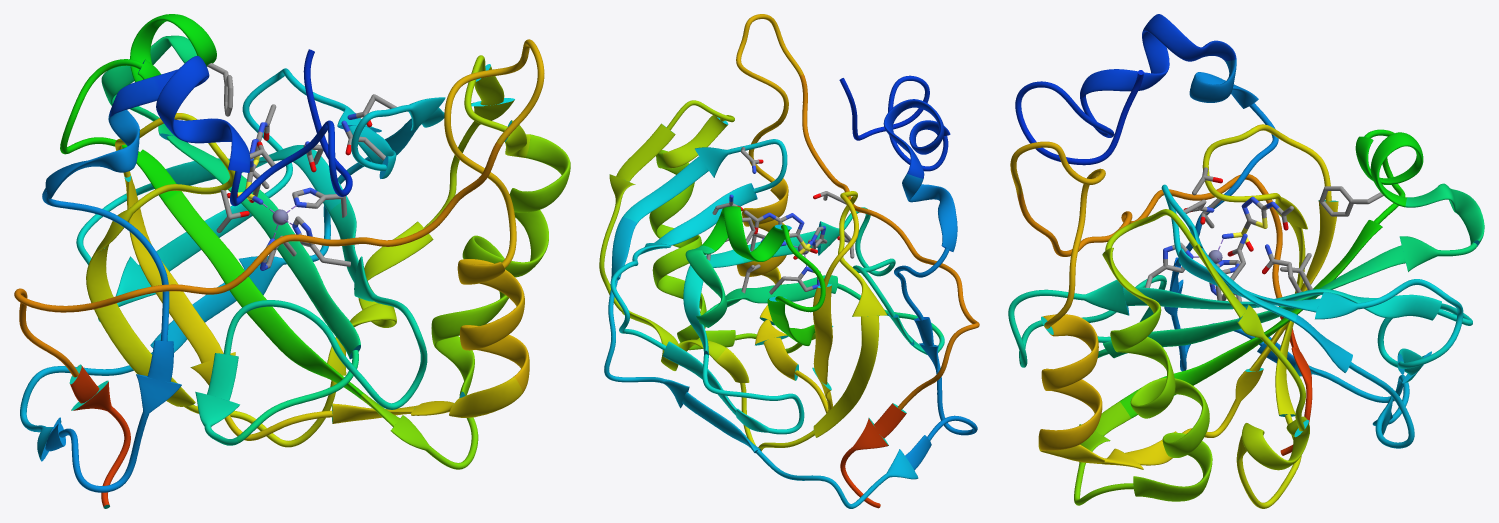
Rendered from proteinDraco.gltf.
3 renders of one model, left to right at view 1: azimuth 30°, elevation 25°; view 2: azimuth 150°, elevation 25°; view 3: azimuth 270°, elevation 25°, orthographic. The views are drawn at different scales.
Visible parts, largest first — view 1: matsym_7, matsym_8, matsym_11, matsym_0, matsym_6, matsym_1, matsym_12, matsym_5, matsym_10, matsym_4, matsym_9, matsym_13 (+4 smaller); view 2: matsym_3, matsym_9, matsym_10, matsym_2, matsym_1, matsym_4, matsym_11, matsym_7, matsym_8, matsym_0, matsym_6, matsym_12 (+4 smaller); view 3: matsym_8, matsym_0, matsym_12, matsym_6, matsym_7, matsym_9, matsym_11, matsym_3, matsym_5, matsym_10, matsym_1, matsym_4 (+4 smaller).
Boxes of the visible parts, x1=… form: matsym_7: x1=60, y1=14, x2=364, y2=399; matsym_8: x1=361, y1=134, x2=570, y2=469; matsym_11: x1=115, y1=113, x2=522, y2=440; matsym_0: x1=109, y1=49, x2=352, y2=206; matsym_6: x1=101, y1=35, x2=360, y2=442; matsym_1: x1=42, y1=109, x2=181, y2=492; matsym_12: x1=444, y1=39, x2=544, y2=393; matsym_5: x1=195, y1=200, x2=427, y2=445; matsym_10: x1=86, y1=113, x2=346, y2=447; matsym_4: x1=76, y1=137, x2=348, y2=322; matsym_9: x1=350, y1=55, x2=530, y2=327; matsym_13: x1=14, y1=142, x2=501, y2=377; matsym_3: x1=610, y1=139, x2=787, y2=332; matsym_9: x1=599, y1=100, x2=734, y2=370; matsym_10: x1=716, y1=191, x2=887, y2=450; matsym_2: x1=604, y1=217, x2=918, y2=508; matsym_1: x1=894, y1=173, x2=977, y2=470; matsym_4: x1=619, y1=249, x2=804, y2=434; matsym_11: x1=755, y1=195, x2=858, y2=413; matsym_7: x1=701, y1=206, x2=825, y2=345; matsym_8: x1=649, y1=150, x2=815, y2=353; matsym_0: x1=839, y1=75, x2=950, y2=178; matsym_6: x1=685, y1=245, x2=943, y2=337; matsym_12: x1=736, y1=14, x2=803, y2=276; matsym_8: x1=1074, y1=306, x2=1212, y2=505; matsym_0: x1=1015, y1=14, x2=1236, y2=165; matsym_12: x1=1010, y1=141, x2=1105, y2=450; matsym_6: x1=1098, y1=183, x2=1484, y2=358; matsym_7: x1=1119, y1=129, x2=1423, y2=418; matsym_9: x1=1102, y1=209, x2=1309, y2=470; matsym_11: x1=1038, y1=124, x2=1338, y2=469; matsym_3: x1=1161, y1=184, x2=1463, y2=349; matsym_5: x1=1008, y1=275, x2=1233, y2=367; matsym_10: x1=1202, y1=127, x2=1307, y2=508; matsym_1: x1=1164, y1=59, x2=1295, y2=371; matsym_4: x1=1240, y1=289, x2=1472, y2=382.
Bounding box in the file's own units: 42.62 × 40.52 × 39.12.
